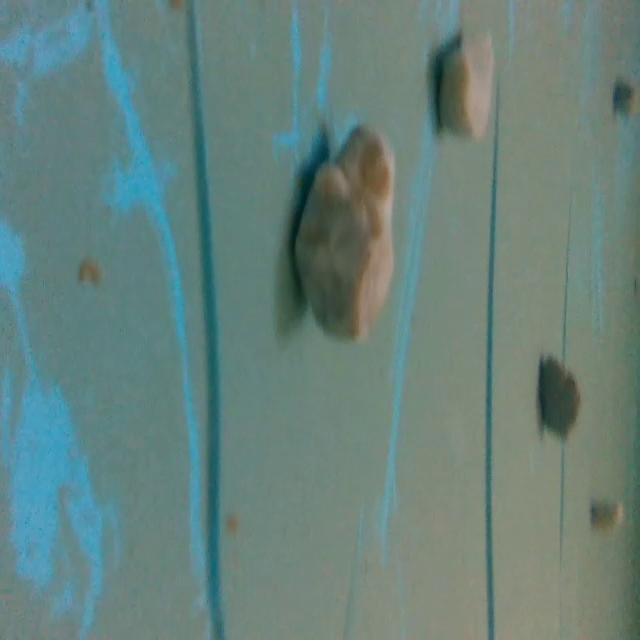rock: (297, 120, 408, 348), (434, 21, 503, 143), (529, 349, 586, 444)
